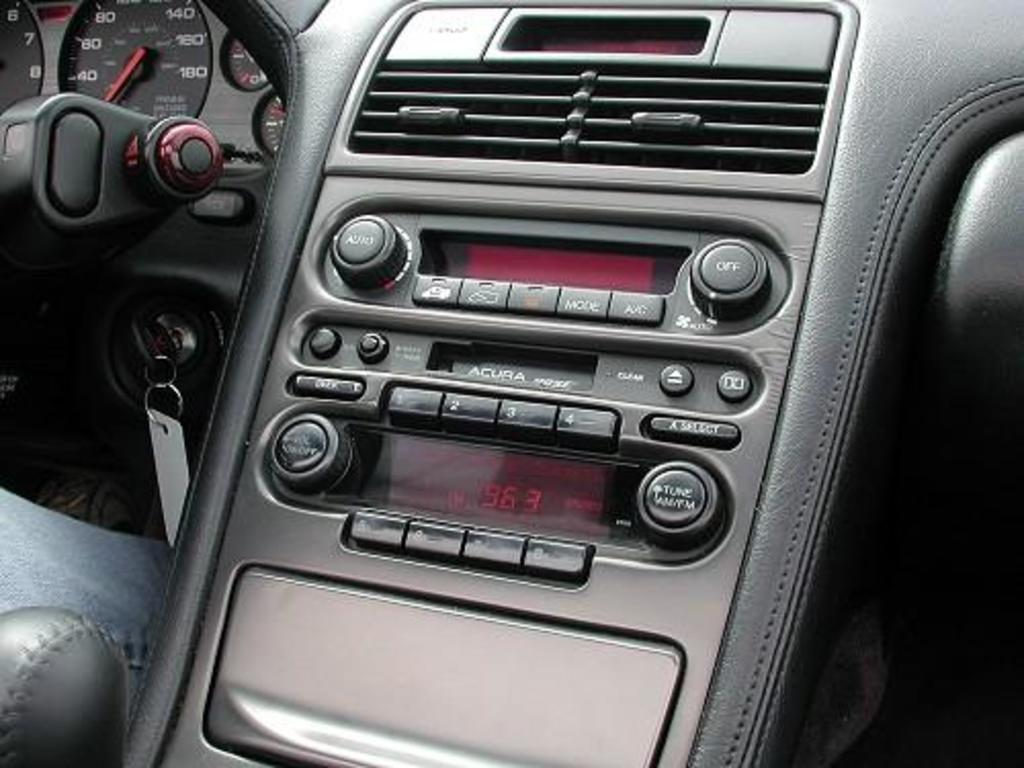Car: (0, 0, 1021, 765)
